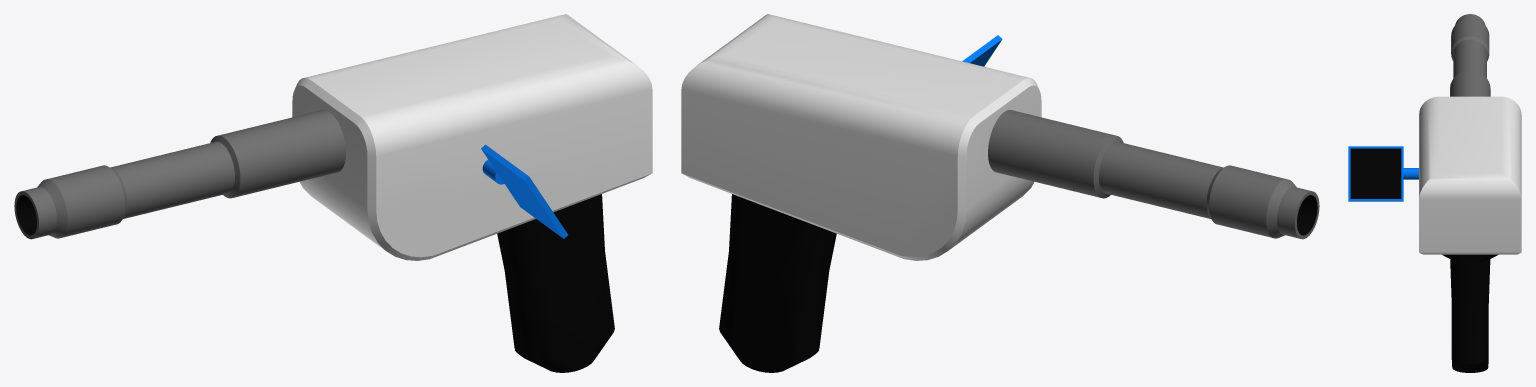
File: toolgun.fbx
3 views of the same model, side by side, from view 1: azimuth 30°, elevation 25°; view 2: azimuth 150°, elevation 25°; view 3: azimuth 270°, elevation 25° (orthographic). The views are drawn at different scales.
Visible parts, largest first — view 1: Cube; view 2: Cube; view 3: Cube.
Boxes of the visible parts, x1,y1,x2,y2 form: Cube: [14, 14, 652, 372]; Cube: [681, 14, 1319, 372]; Cube: [1348, 14, 1521, 372].
Bounding box in the file's own units: 53.98 × 28.24 × 21.95.
